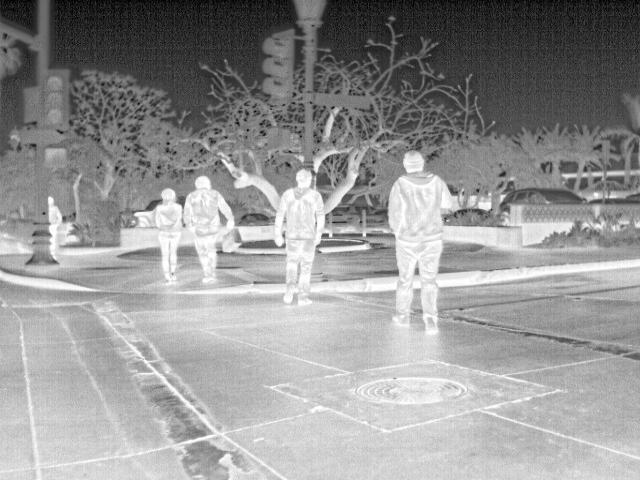car: (494, 188, 585, 209), (446, 207, 488, 228), (236, 211, 269, 228)
person: (387, 150, 457, 339), (273, 170, 323, 308), (181, 174, 232, 283), (154, 186, 186, 286), (46, 196, 64, 257)
